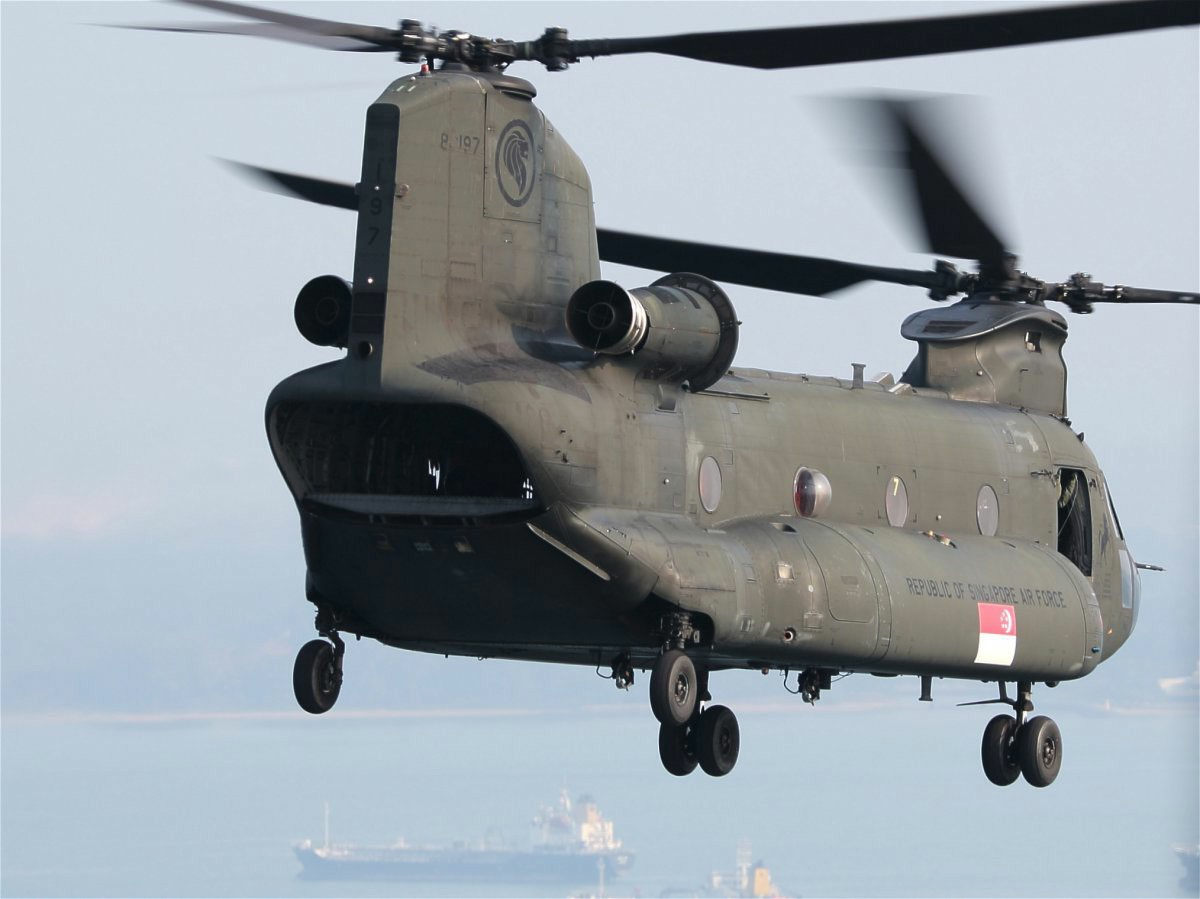chinook: (146, 9, 1189, 787)
